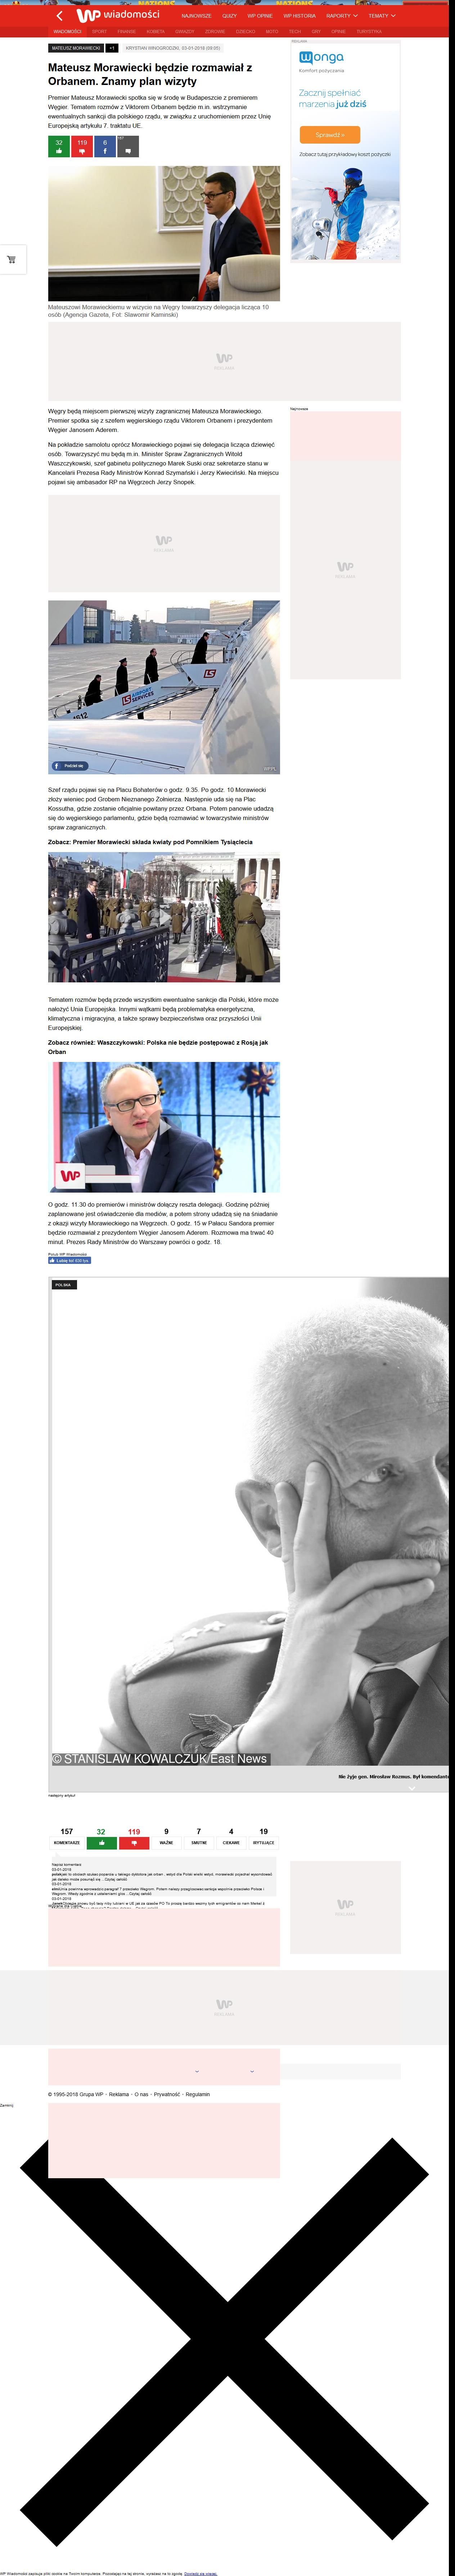title: (48, 62, 253, 87)
